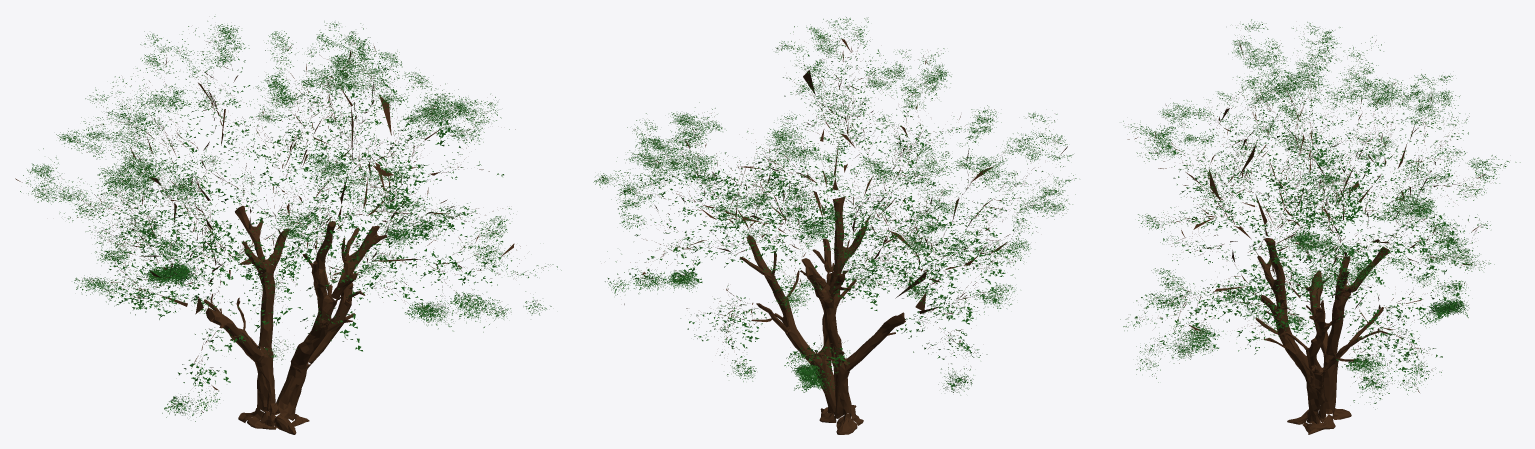
The model's file is jacaranda_tree_realistic_compact.obj.
3 views of the same model, side by side, from view 1: azimuth 30°, elevation 25°; view 2: azimuth 150°, elevation 25°; view 3: azimuth 270°, elevation 25° (orthographic). The views are drawn at different scales.
Parts seen in each view (by area): view 1: part_3__jacaranda_tree_leaves, part_2__jacaranda_tree_trunk, part_1__jacaranda_tree_branches; view 2: part_3__jacaranda_tree_leaves, part_2__jacaranda_tree_trunk, part_1__jacaranda_tree_branches; view 3: part_3__jacaranda_tree_leaves, part_2__jacaranda_tree_trunk, part_1__jacaranda_tree_branches.
Boxes of the visible parts, bbox=[...] form: part_3__jacaranda_tree_leaves: bbox=[20, 16, 561, 421]; part_2__jacaranda_tree_trunk: bbox=[204, 205, 386, 434]; part_1__jacaranda_tree_branches: bbox=[15, 25, 543, 412]; part_3__jacaranda_tree_leaves: bbox=[593, 17, 1076, 395]; part_2__jacaranda_tree_trunk: bbox=[740, 197, 905, 434]; part_1__jacaranda_tree_branches: bbox=[600, 21, 1067, 389]; part_3__jacaranda_tree_leaves: bbox=[1120, 19, 1520, 409]; part_2__jacaranda_tree_trunk: bbox=[1255, 238, 1391, 434]; part_1__jacaranda_tree_branches: bbox=[1127, 26, 1486, 392].
Size of the model in its own units: 24.31 by 19.42 by 19.08.
